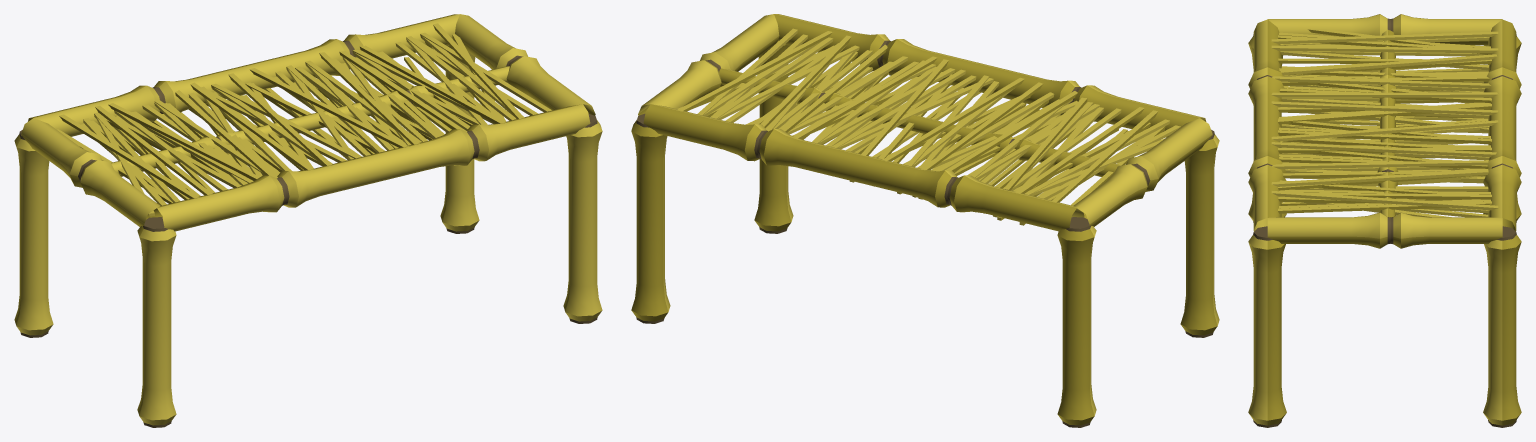
Rendered from Env_TableA.fbx.
The picture shows the model from 3 angles, left to right: view 1: azimuth 30°, elevation 25°; view 2: azimuth 150°, elevation 25°; view 3: azimuth 270°, elevation 25°; orthographic projection. The views are drawn at different scales.
Visible parts, largest first — view 1: Env_Study_TableA; view 2: Env_Study_TableA; view 3: Env_Study_TableA.
Part boxes in pixels (x1,y1,x2,y2): Env_Study_TableA: [14, 14, 602, 427]; Env_Study_TableA: [631, 14, 1219, 427]; Env_Study_TableA: [1248, 14, 1521, 427].
Size of the model in its own units: 1.08 by 0.4911 by 0.5825.
